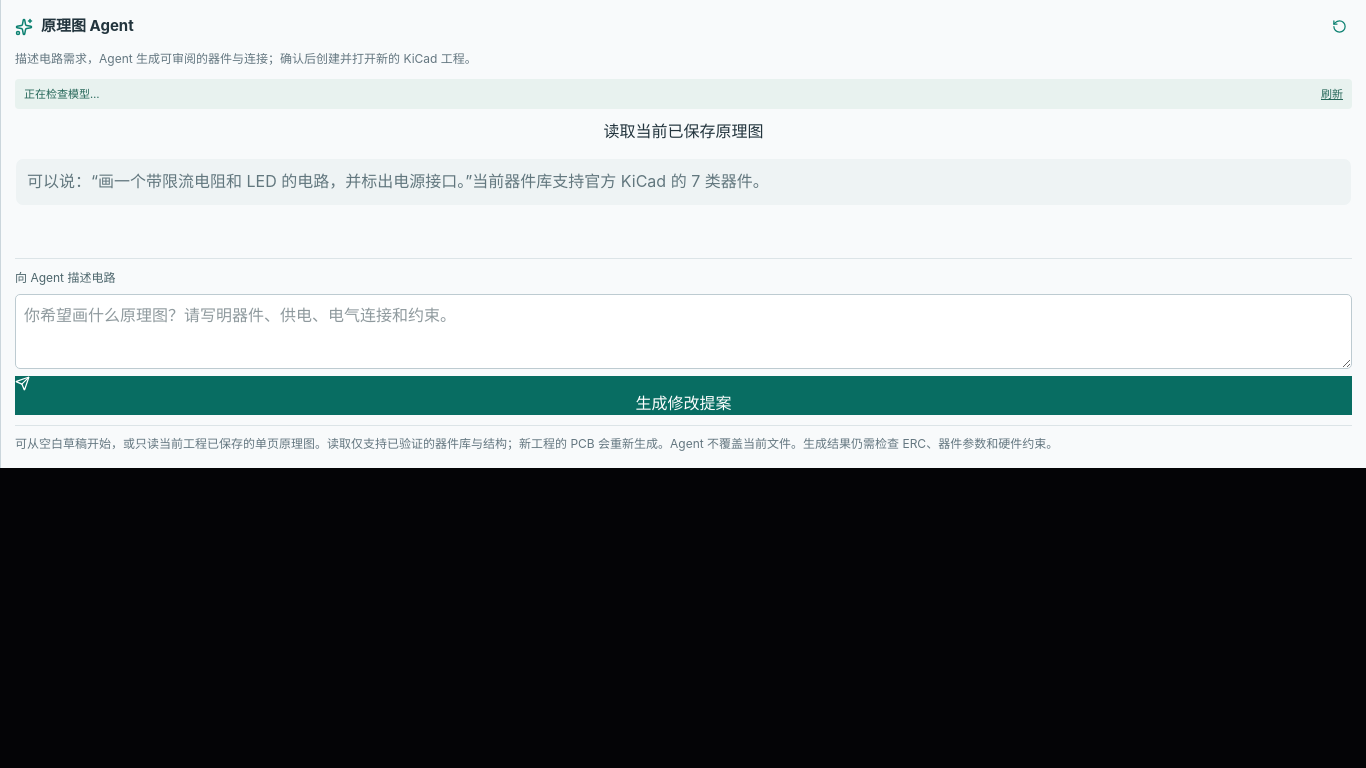
can start a copy from the current saved KiCad schematic without modifying the source project
Click the button "读取当前已保存原理图" at [684, 131], box [15, 119, 1352, 143]
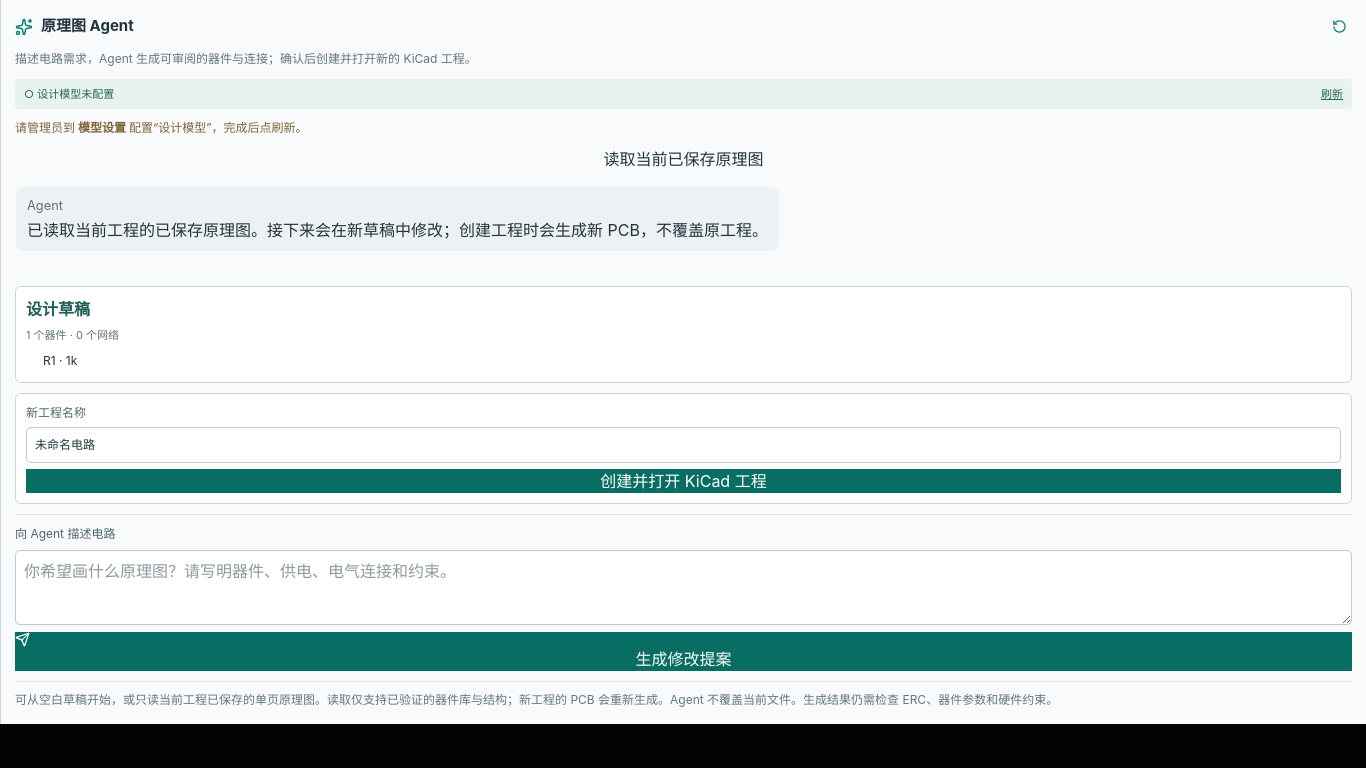
Now the list item "R1 · 1k" is shown, box [43, 353, 77, 368]
